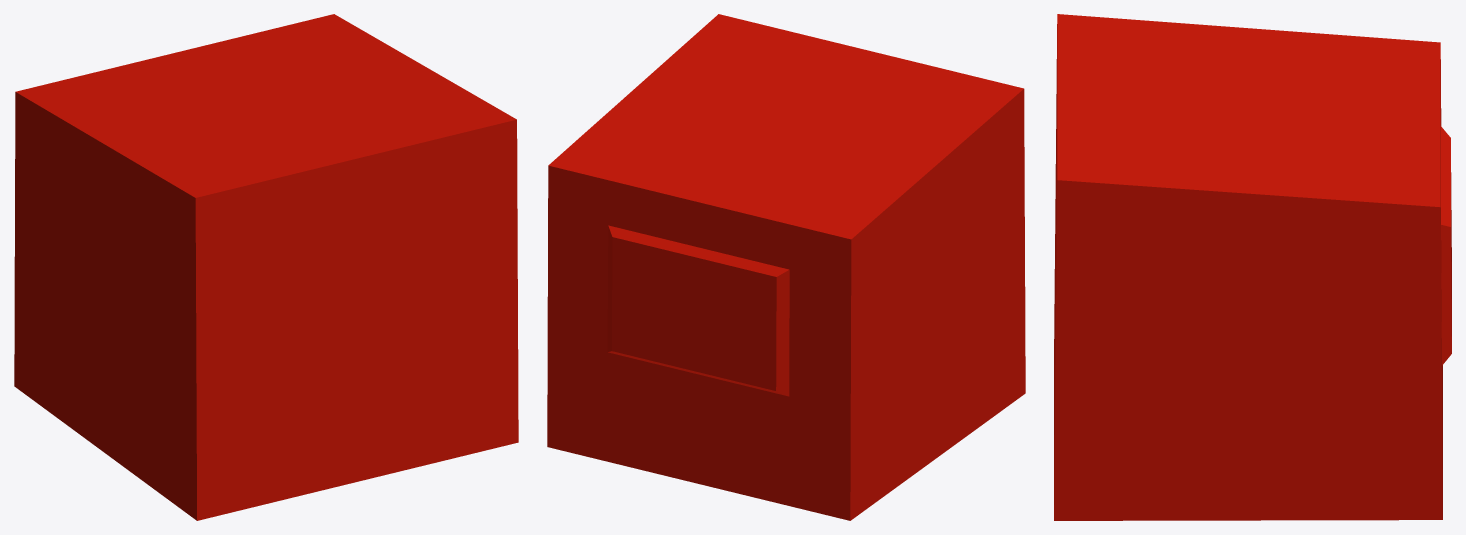
The model's file is UCX_cctv_crt.fbx.
The picture shows the model from 3 angles, left to right: view 1: azimuth 30°, elevation 25°; view 2: azimuth 150°, elevation 25°; view 3: azimuth 270°, elevation 25°; orthographic projection. The views are drawn at different scales.
Parts seen in each view (by area): view 1: UCX_cctv_crt; view 2: UCX_cctv_crt; view 3: UCX_cctv_crt.
Boxes of the visible parts, x1,y1,x2,y2 form: UCX_cctv_crt: (14, 14, 518, 520); UCX_cctv_crt: (547, 14, 1025, 520); UCX_cctv_crt: (1054, 14, 1451, 520).
Bounding box in the file's own units: 0.4675 × 0.4472 × 0.4732.
